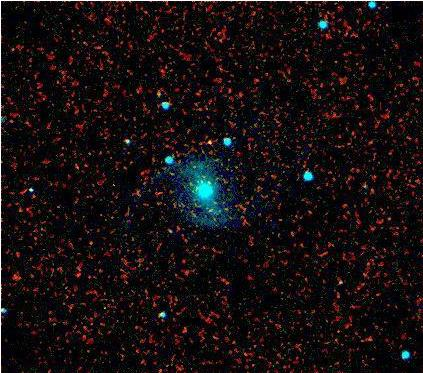star: (192, 125, 222, 155)
